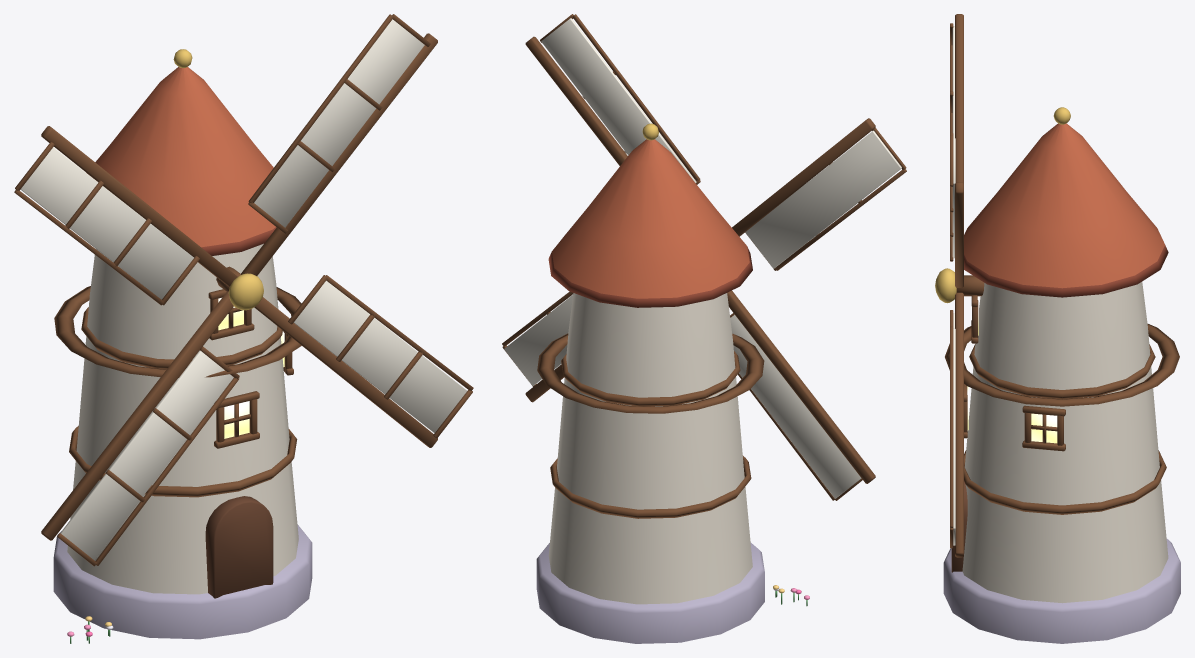
The model's file is windmill.glb.
3 views of the same model, side by side, from view 1: azimuth 30°, elevation 25°; view 2: azimuth 150°, elevation 25°; view 3: azimuth 270°, elevation 25° (orthographic). The views are drawn at different scales.
Parts seen in each view (by area): view 1: windmill:mesh, windmill:blades.mesh; view 2: windmill:mesh, windmill:blades.mesh; view 3: windmill:mesh, windmill:blades.mesh.
Part boxes in pixels (left/top/right/bottom): windmill:mesh: left=53, top=49, right=312, bottom=643; windmill:blades.mesh: left=14, top=14, right=473, bottom=566; windmill:mesh: left=536, top=123, right=809, bottom=643; windmill:blades.mesh: left=502, top=14, right=906, bottom=500; windmill:mesh: left=943, top=107, right=1180, bottom=643; windmill:blades.mesh: left=935, top=14, right=984, bottom=557.
Size of the model in its own units: 5.51 by 6.66 by 2.82.
